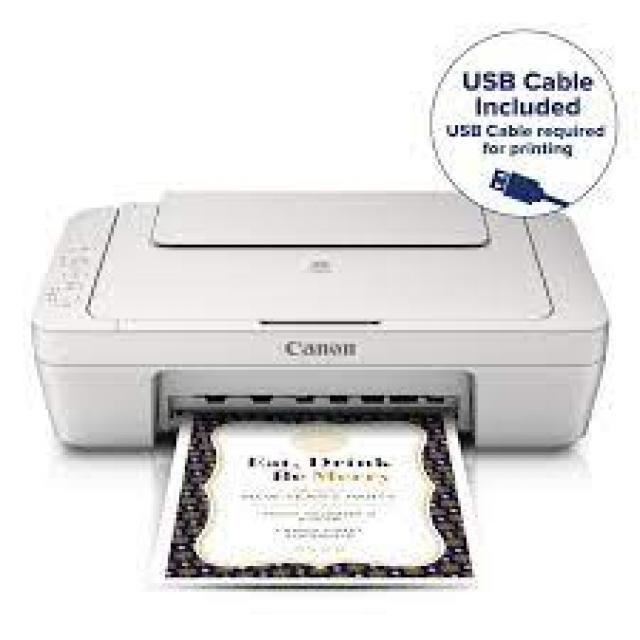printer: (24, 177, 618, 605)
